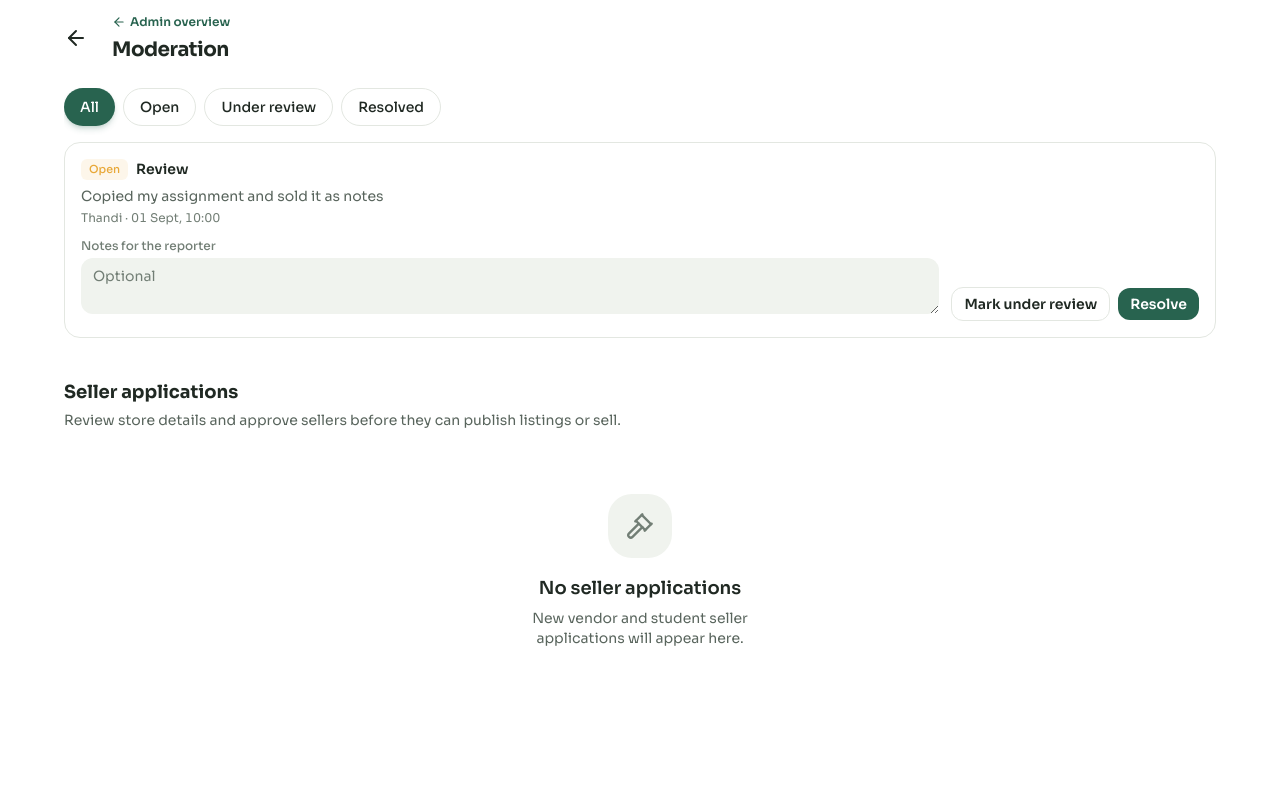
Moderation › resolves a report with the note that goes back to the reporter
The width and height of the screenshot is (1280, 812).
Expected: the button "Resolve" is shown, [1118,288,1199,320]
Type "Warning sent to the seller" into the text box labelled "Notes for the reporter".
click(510, 286); type("Warning sent to the seller")  # box [81,258,940,314]
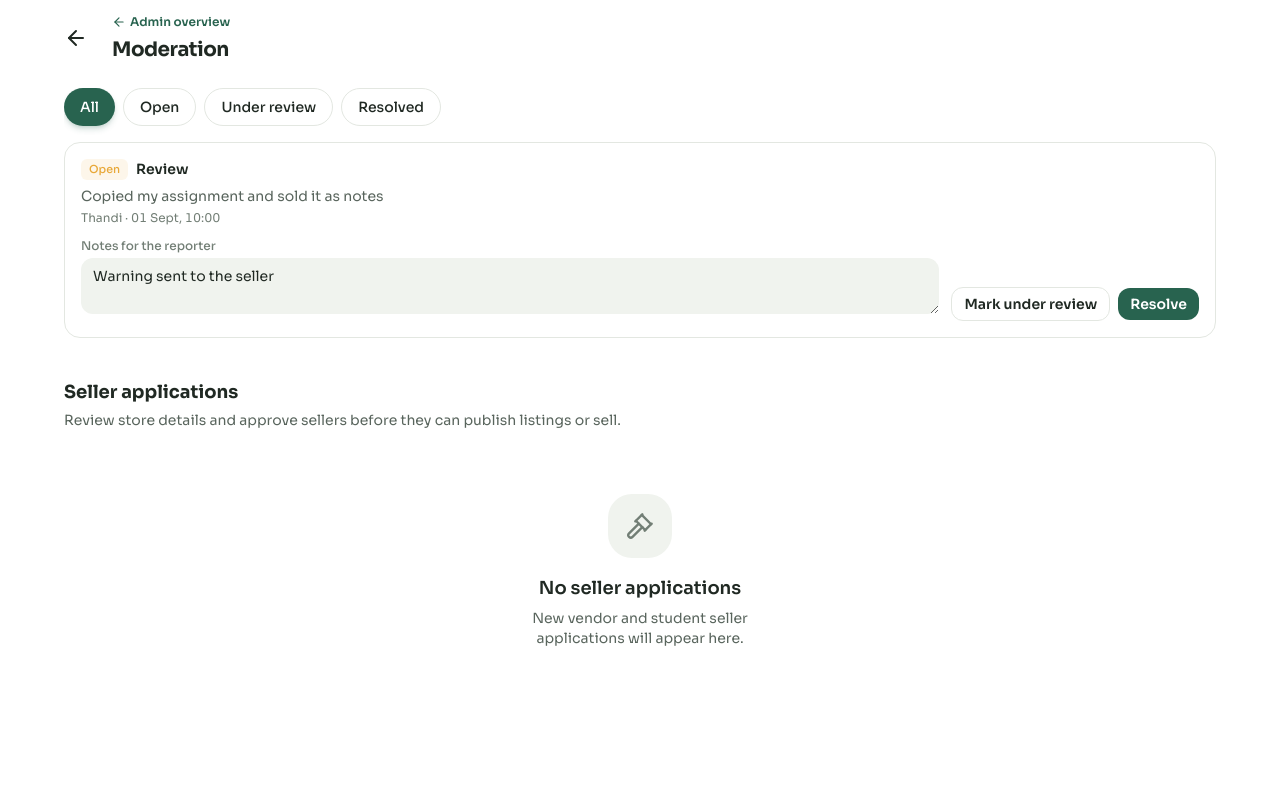
Click the button "Resolve".
click(1159, 304)  # box [1118,288,1199,320]
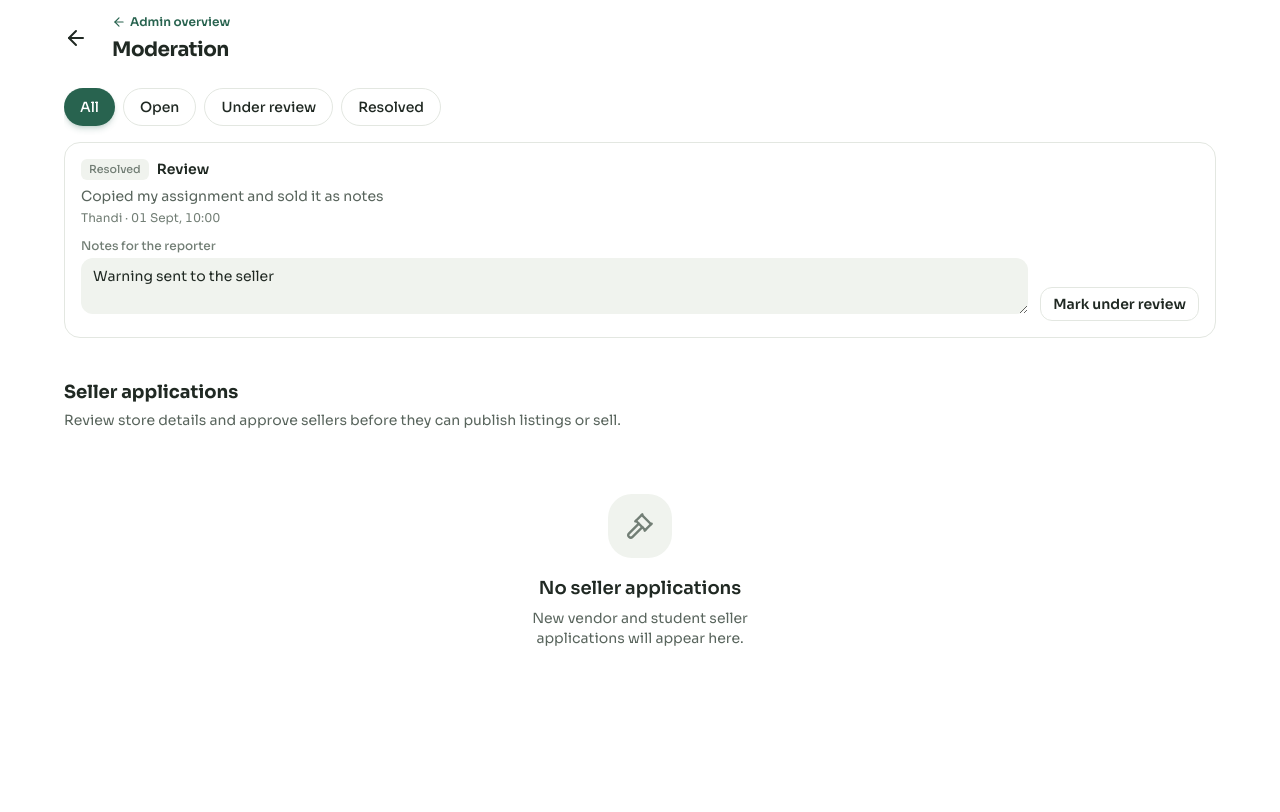
Now the text "Resolved" is shown, box [81,159,149,180]
